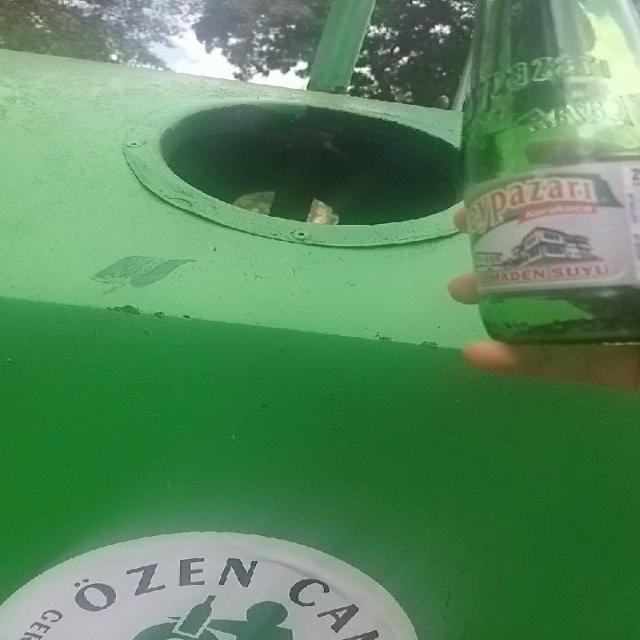glass: (463, 0, 640, 344)
